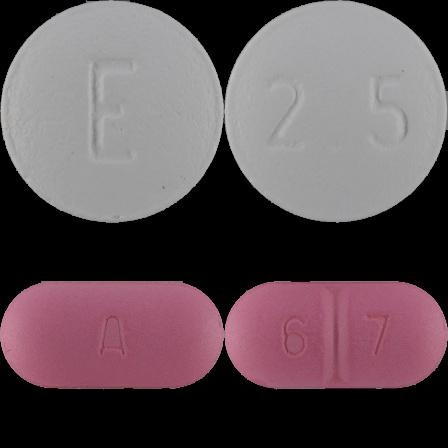50436-0026: (0, 0, 224, 224)
